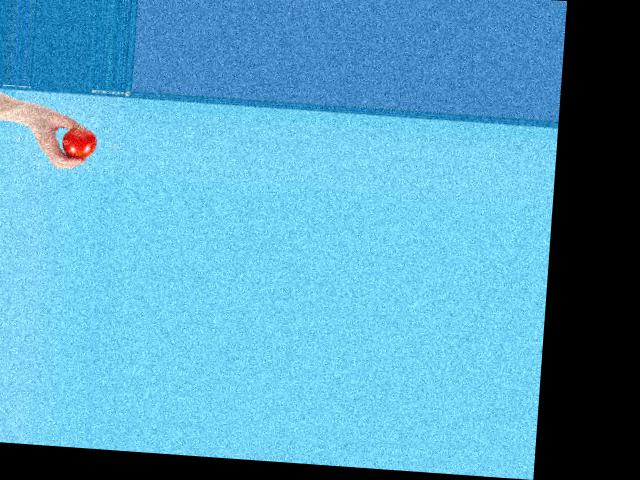tomato: (61, 127, 97, 159)
